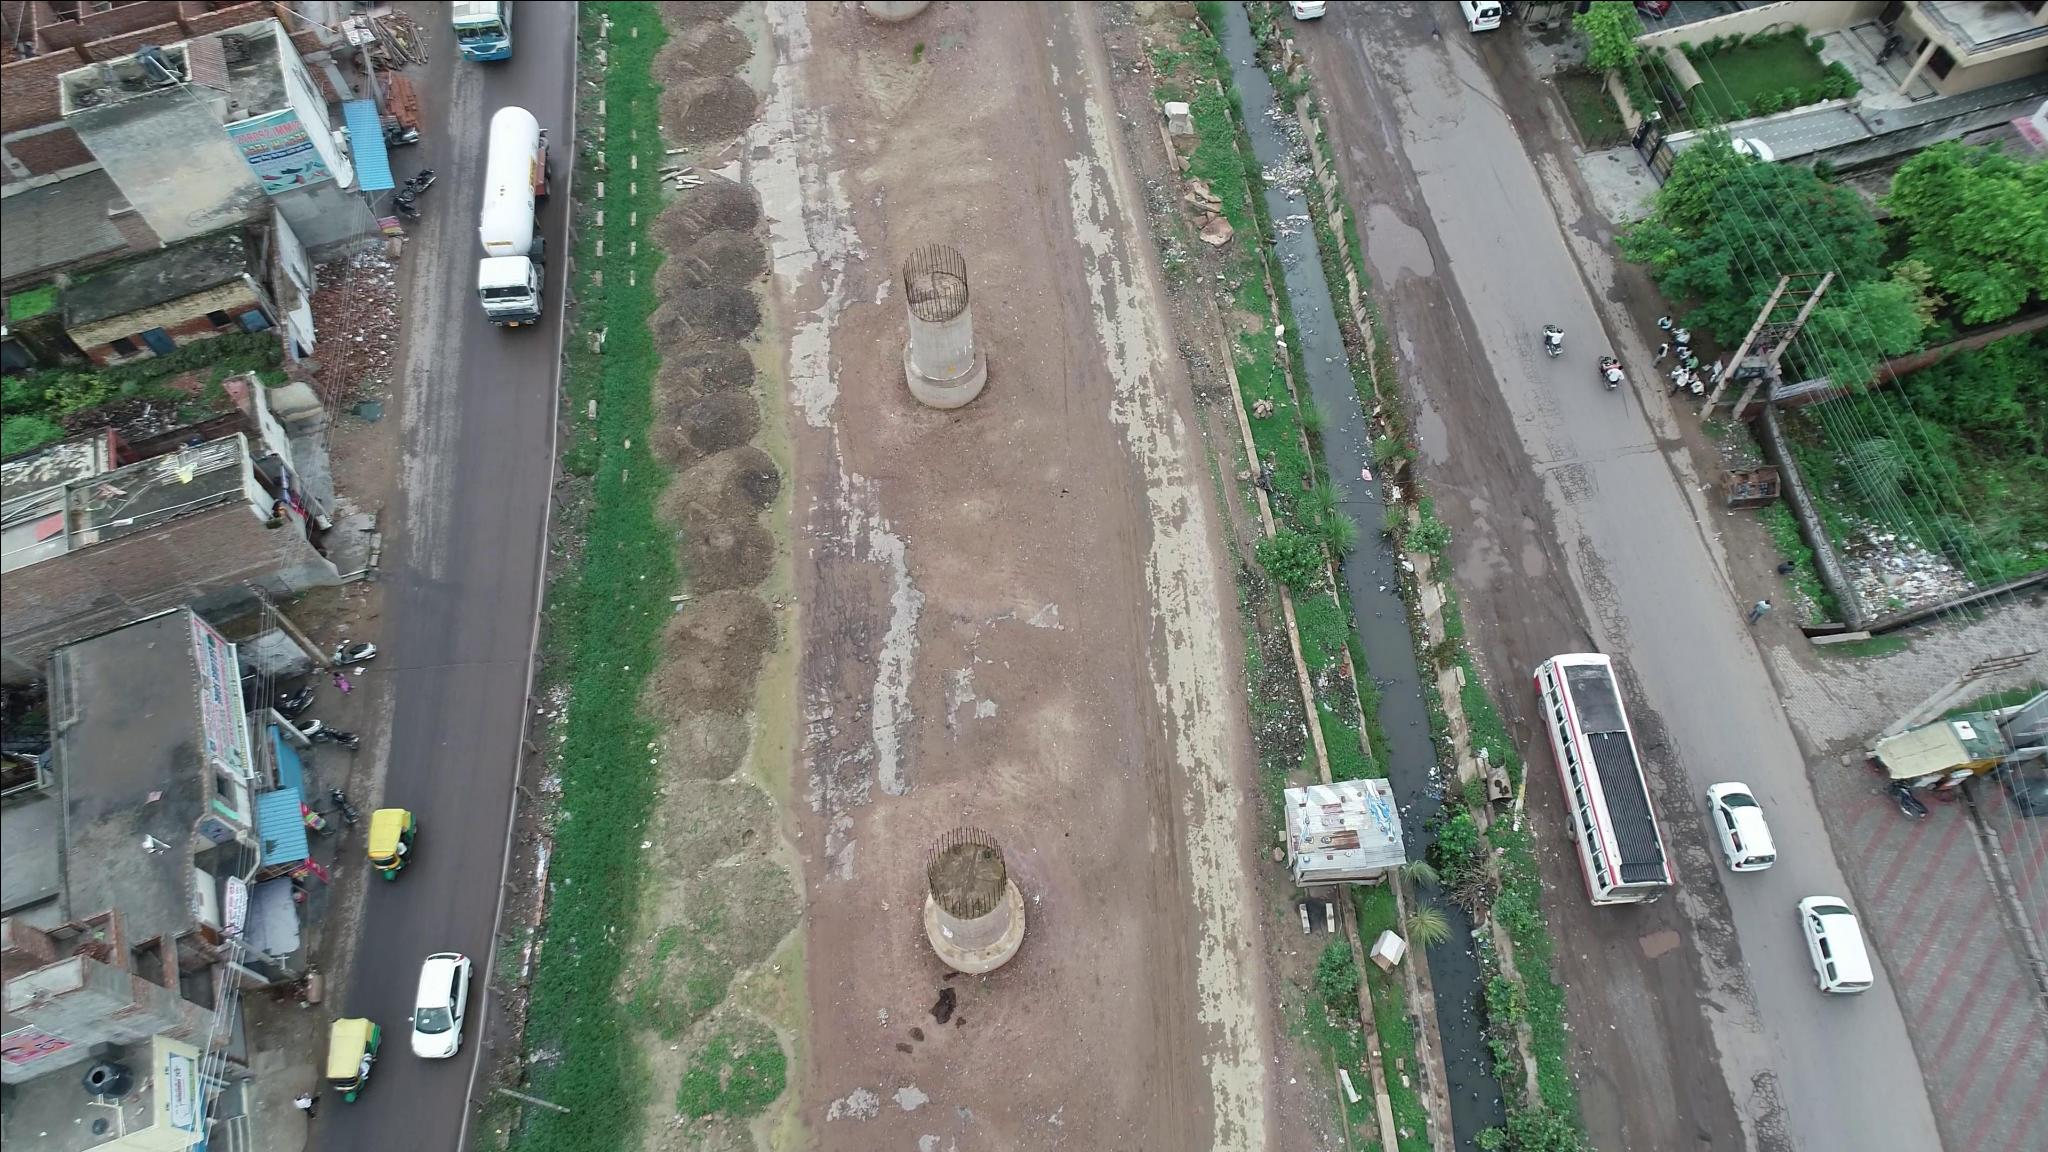Cracks: (1542, 432, 1625, 594), (1596, 599, 1668, 722), (1729, 1049, 1802, 1148), (1694, 940, 1777, 1023), (1656, 769, 1722, 871), (1497, 328, 1568, 421)
Potholes: (1688, 882, 1733, 954), (1644, 736, 1685, 771)
